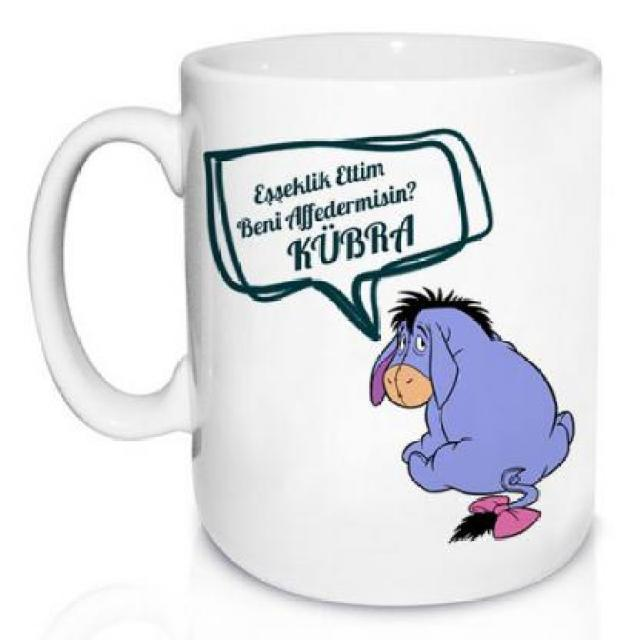taza: (24, 12, 620, 614)
